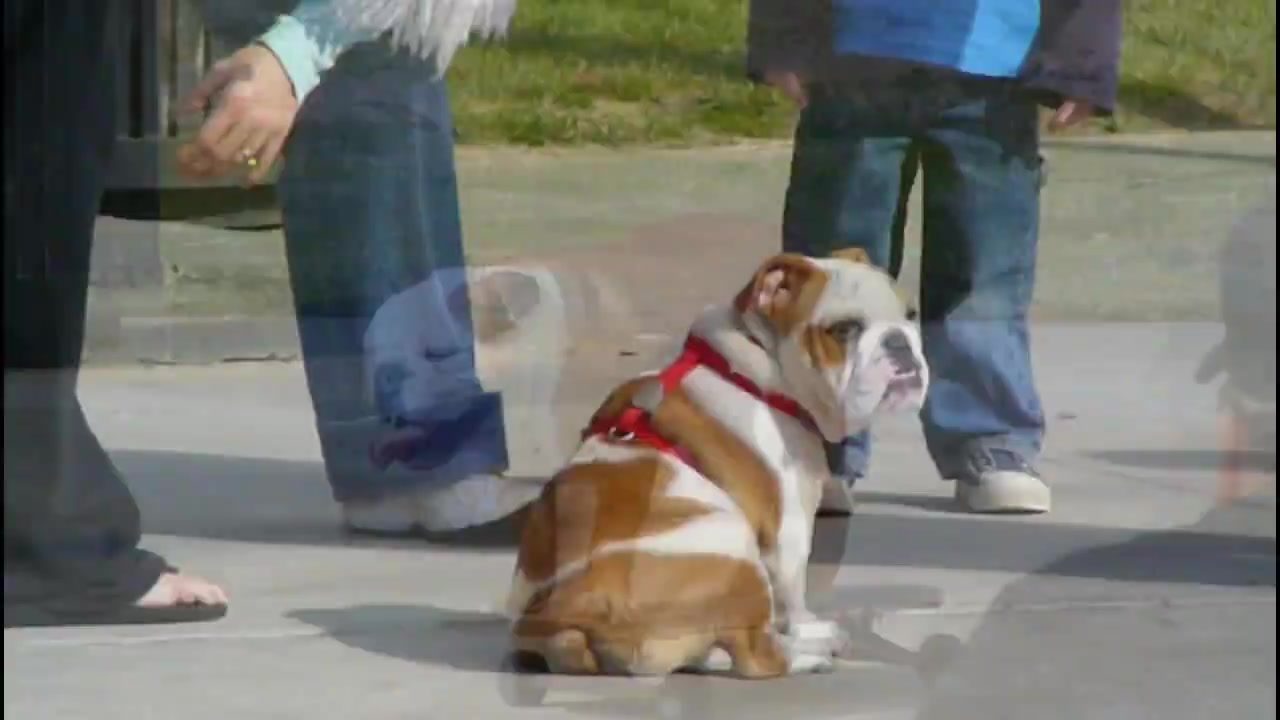dog: (513, 251, 931, 681)
